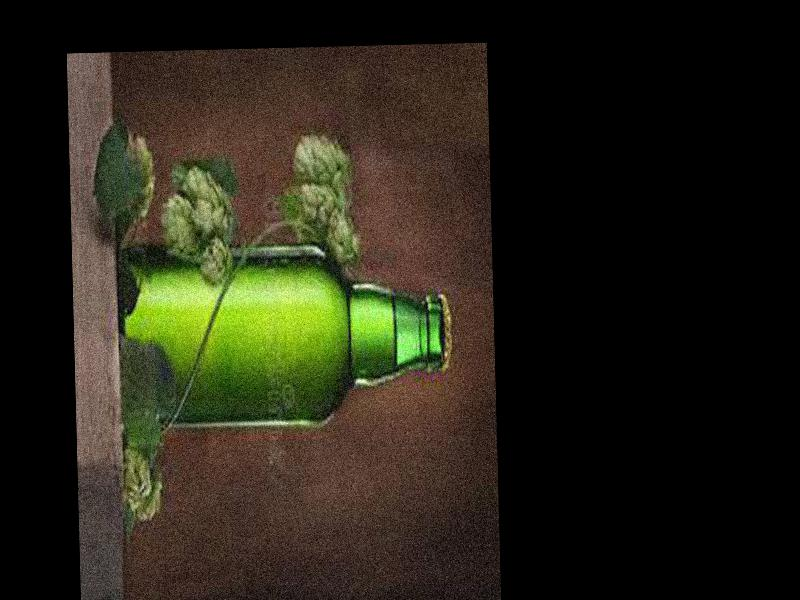Beer: (111, 245, 454, 432)
